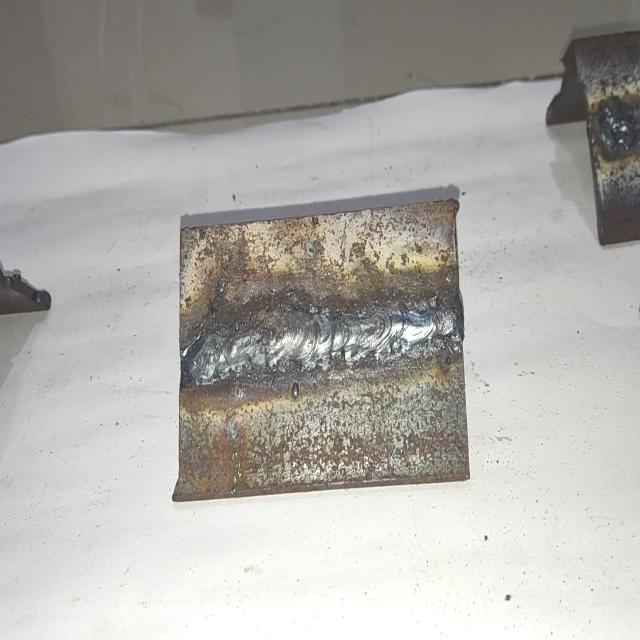Bad Weld: (182, 294, 460, 387), (584, 92, 640, 156)
Defect: (181, 307, 272, 388), (594, 105, 640, 156)
